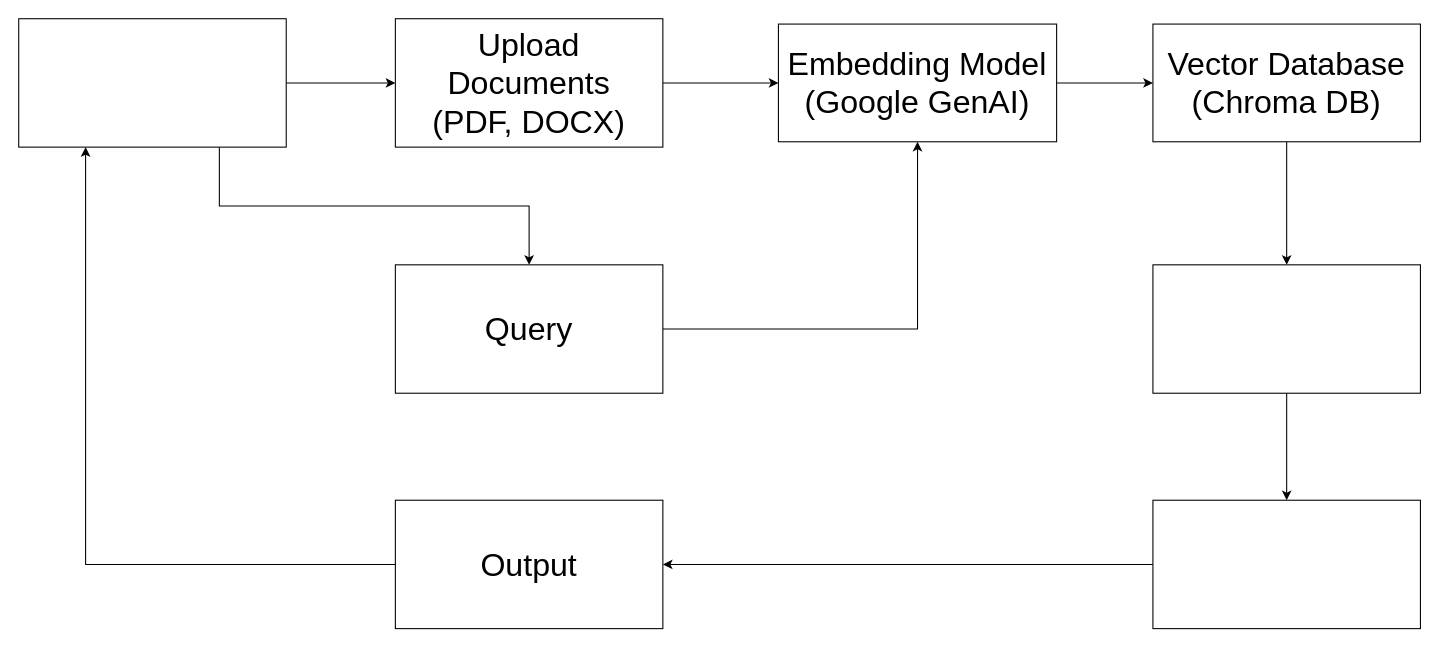
Image size: 1439x647. Some labels were removed from this diagram. The centre of each missing label's shape, as x and y in pixels:
"LLM (gemini-2.0-flash)" goes at point (1286, 564).
"Reranker (FlashRank)" goes at point (1286, 328).
"Streamlit (UI)" goes at point (152, 82).
